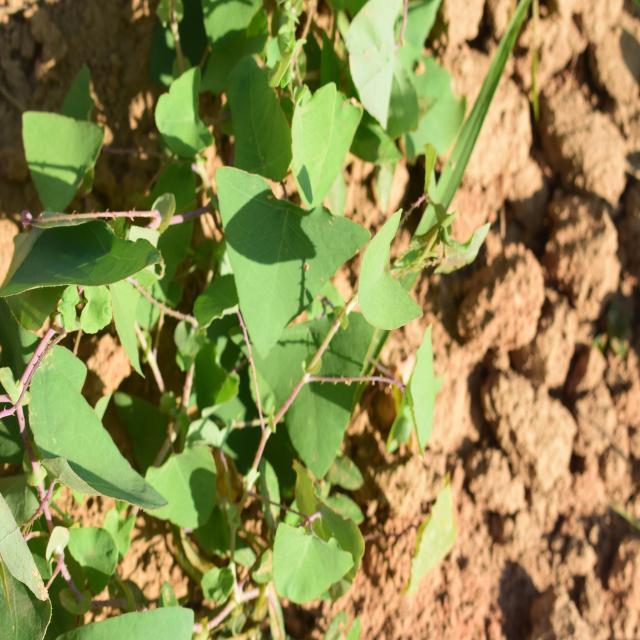Asiatic_Smartweed: (210, 65, 450, 478), (26, 335, 167, 527), (270, 455, 362, 613)
